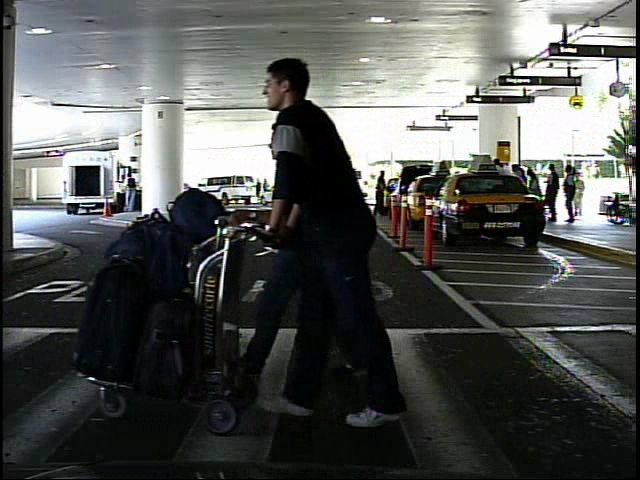person: (254, 49, 435, 428), (280, 112, 341, 385), (575, 172, 594, 218), (114, 172, 131, 215)
